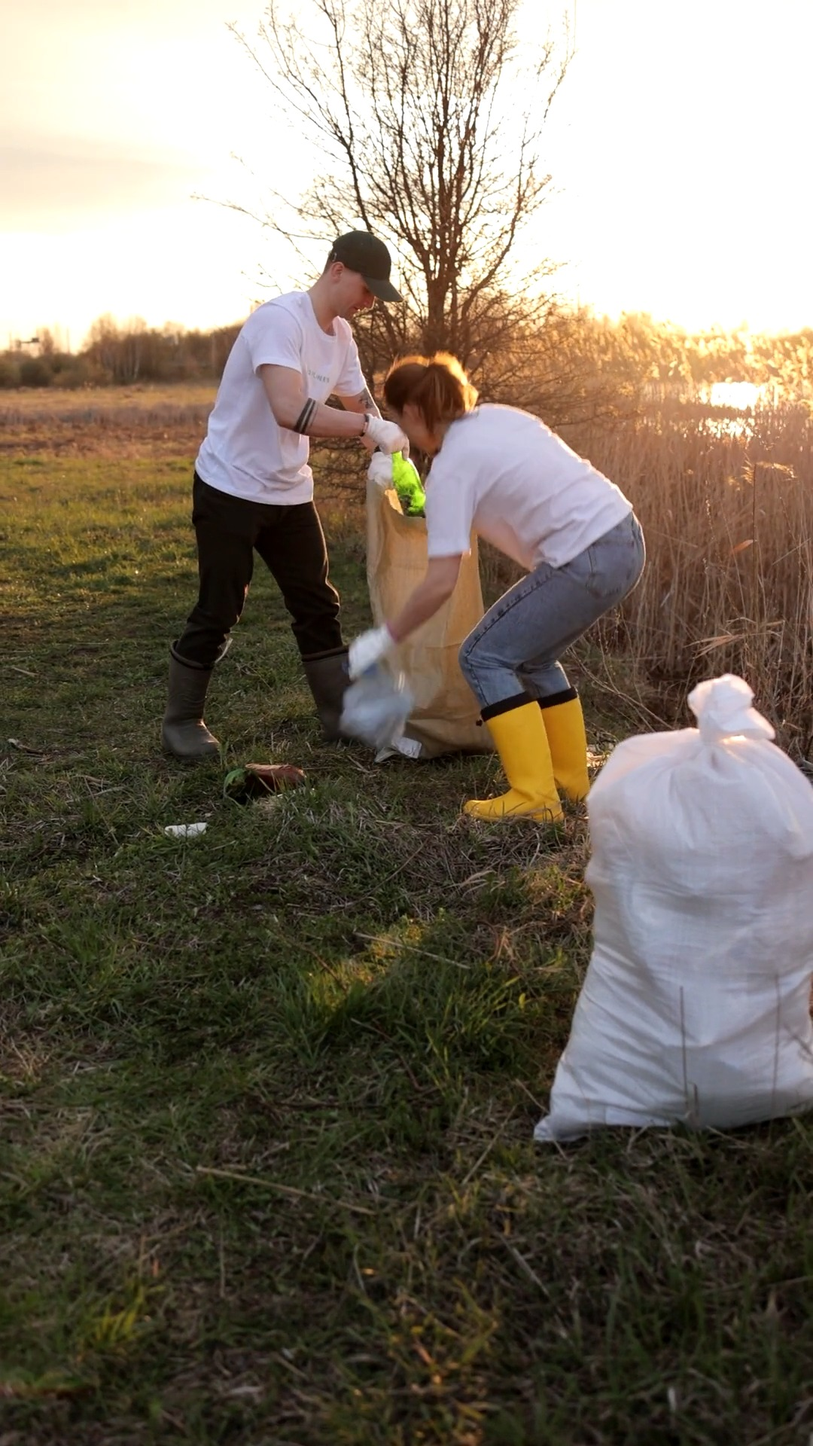gloves: (331, 617, 409, 683), (351, 392, 410, 473)
